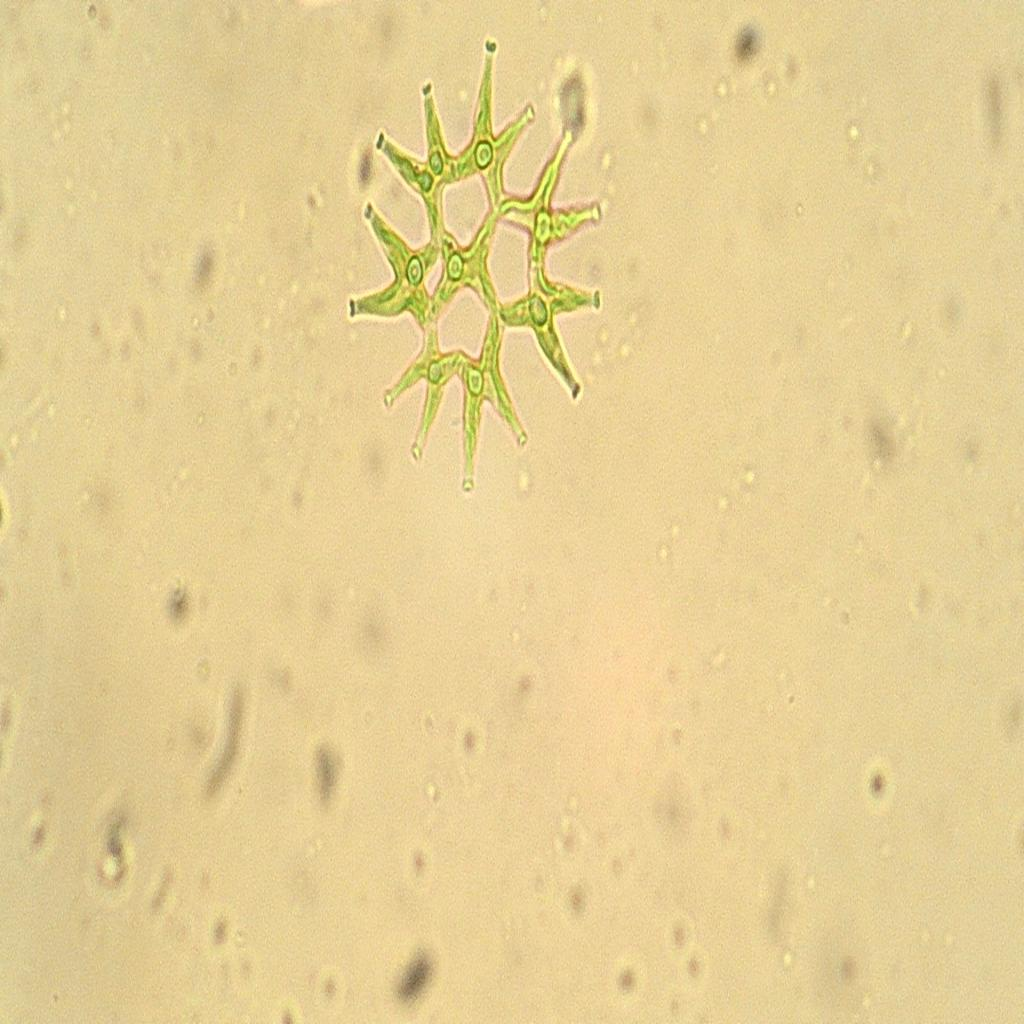Pediastrum_CTH: (344, 34, 625, 507)
